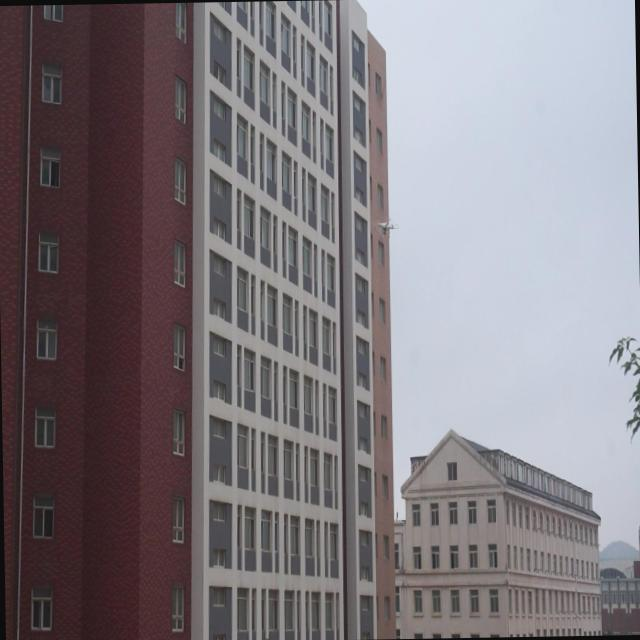drone: (373, 212, 400, 238)
